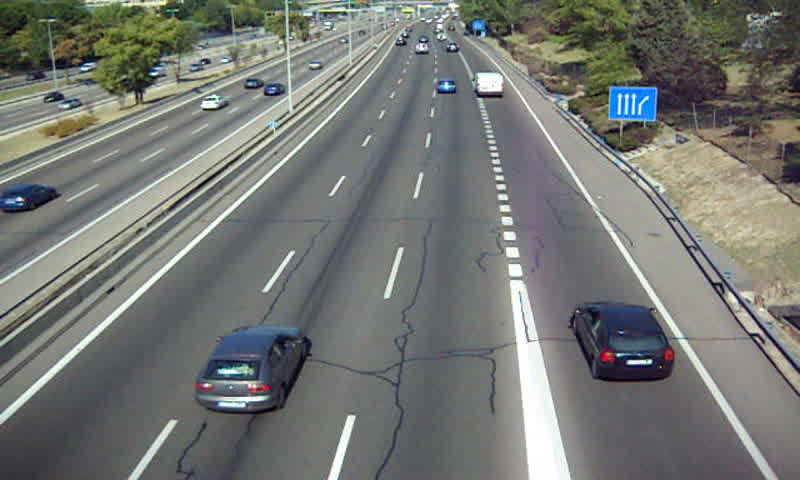car: (193, 328, 305, 415), (572, 303, 673, 380), (435, 79, 456, 96)
van: (475, 72, 504, 96)
